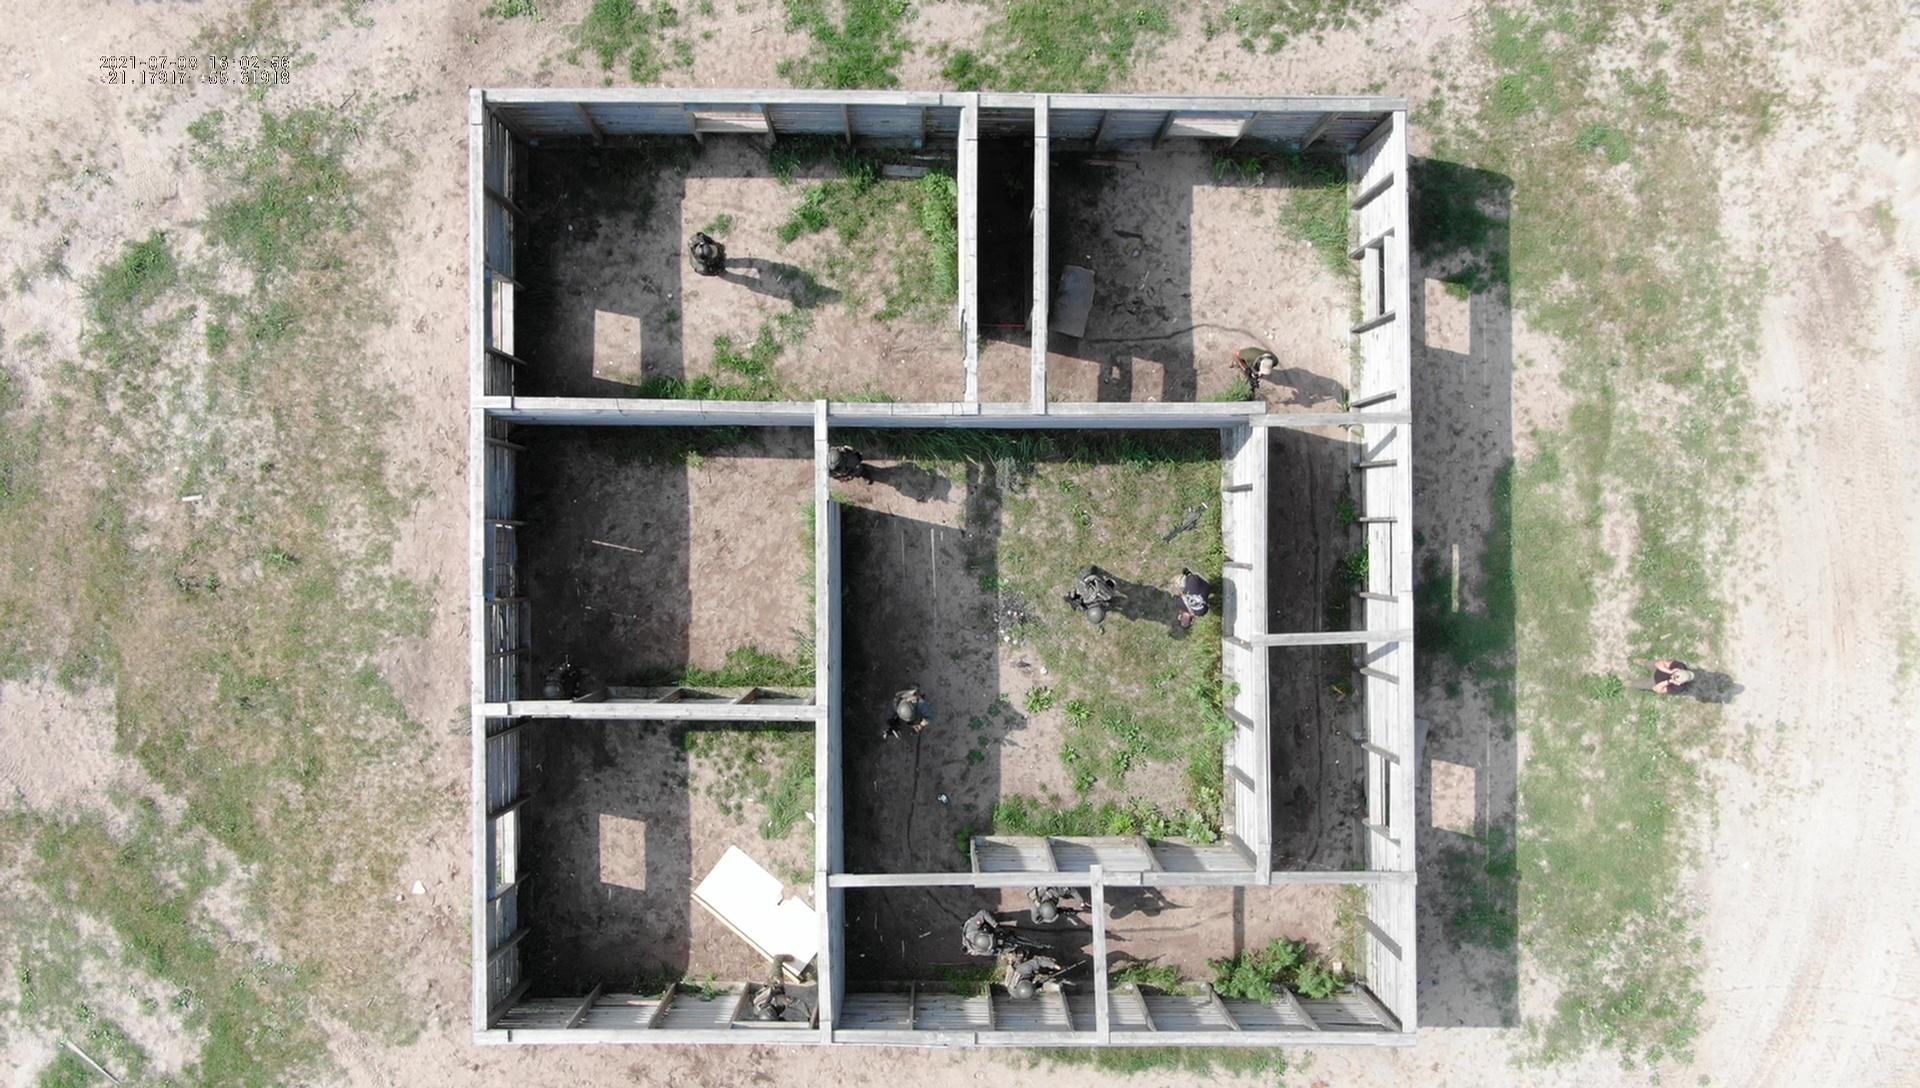Soldier: (1044, 554, 1125, 637), (989, 951, 1091, 1012), (881, 665, 942, 742), (1168, 568, 1228, 641), (1222, 330, 1286, 394), (753, 951, 806, 1027), (682, 226, 733, 280), (535, 654, 589, 700), (953, 910, 1002, 960), (1015, 901, 1080, 938), (825, 444, 872, 491)
